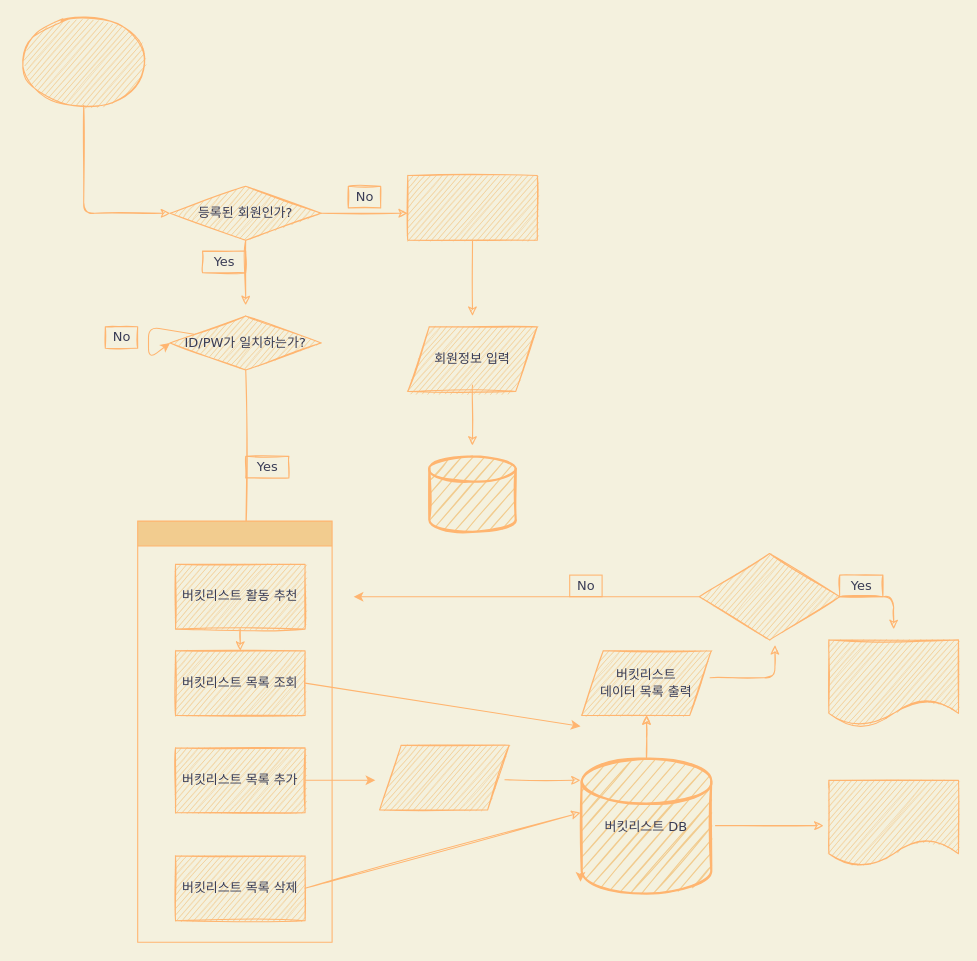
Image size: 977x961. Some labels were removed from this diagram. Here are the shapes that lost their labels. From the top down, the centre of each, then its label:
pixel 83 61: Start
pixel 472 207: 회원가입
pixel 472 493: 멤버DB
pixel 769 596: 거리가 가까운가?
pixel 893 682: 경로 출력
pixel 234 731: Bucketlist Service
pixel 444 777: 활동 정보 입력
pixel 893 823: 버킷리스트 목록 출력
